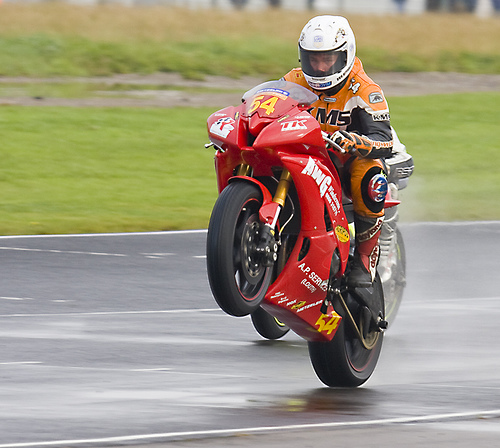helmet: (293, 12, 360, 97)
